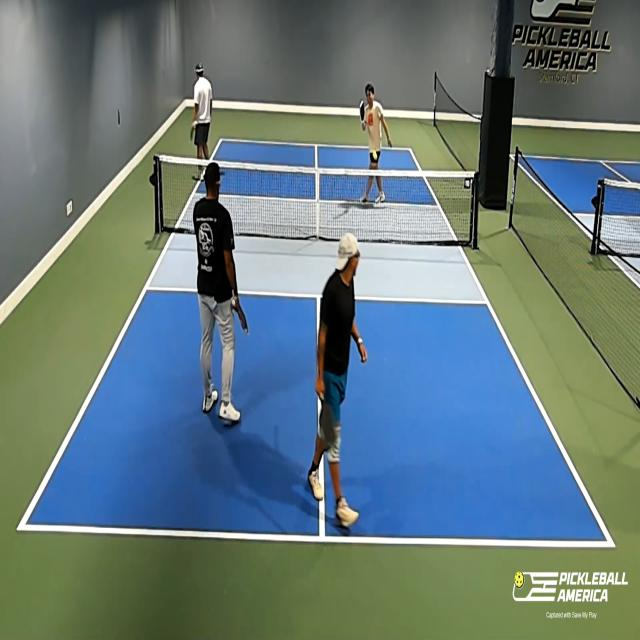Pickleball: (372, 150, 379, 161)
